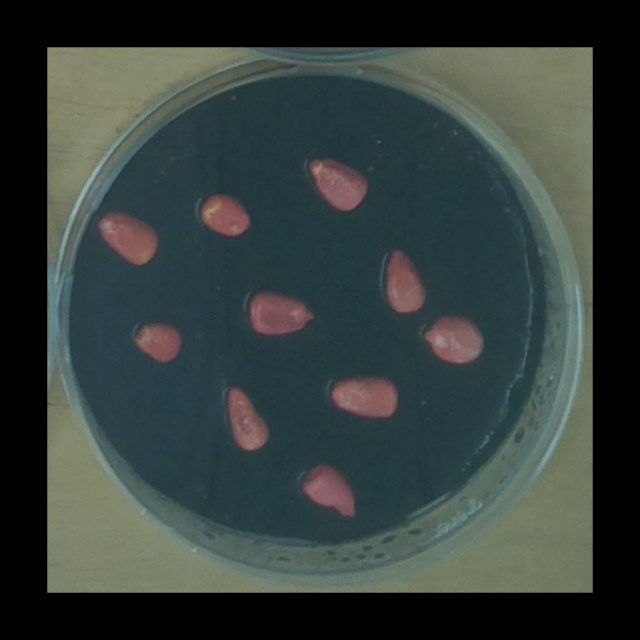Zea mays: (90, 203, 165, 271), (301, 148, 375, 216), (242, 281, 322, 342), (323, 367, 405, 424), (293, 454, 361, 521), (218, 378, 276, 455), (377, 240, 432, 319), (417, 308, 488, 369), (194, 183, 257, 242), (129, 314, 188, 366)
